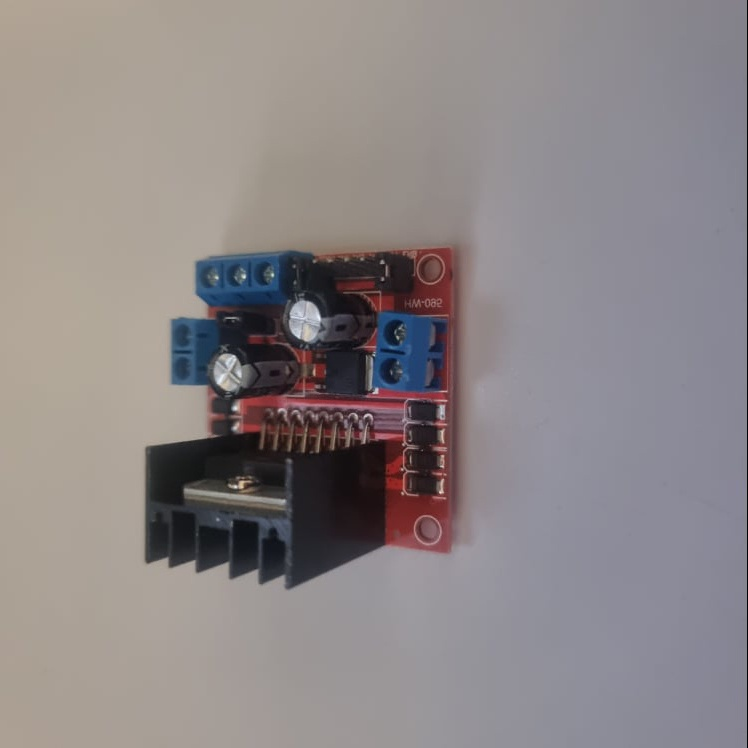MOTOR: (142, 246, 457, 590)
